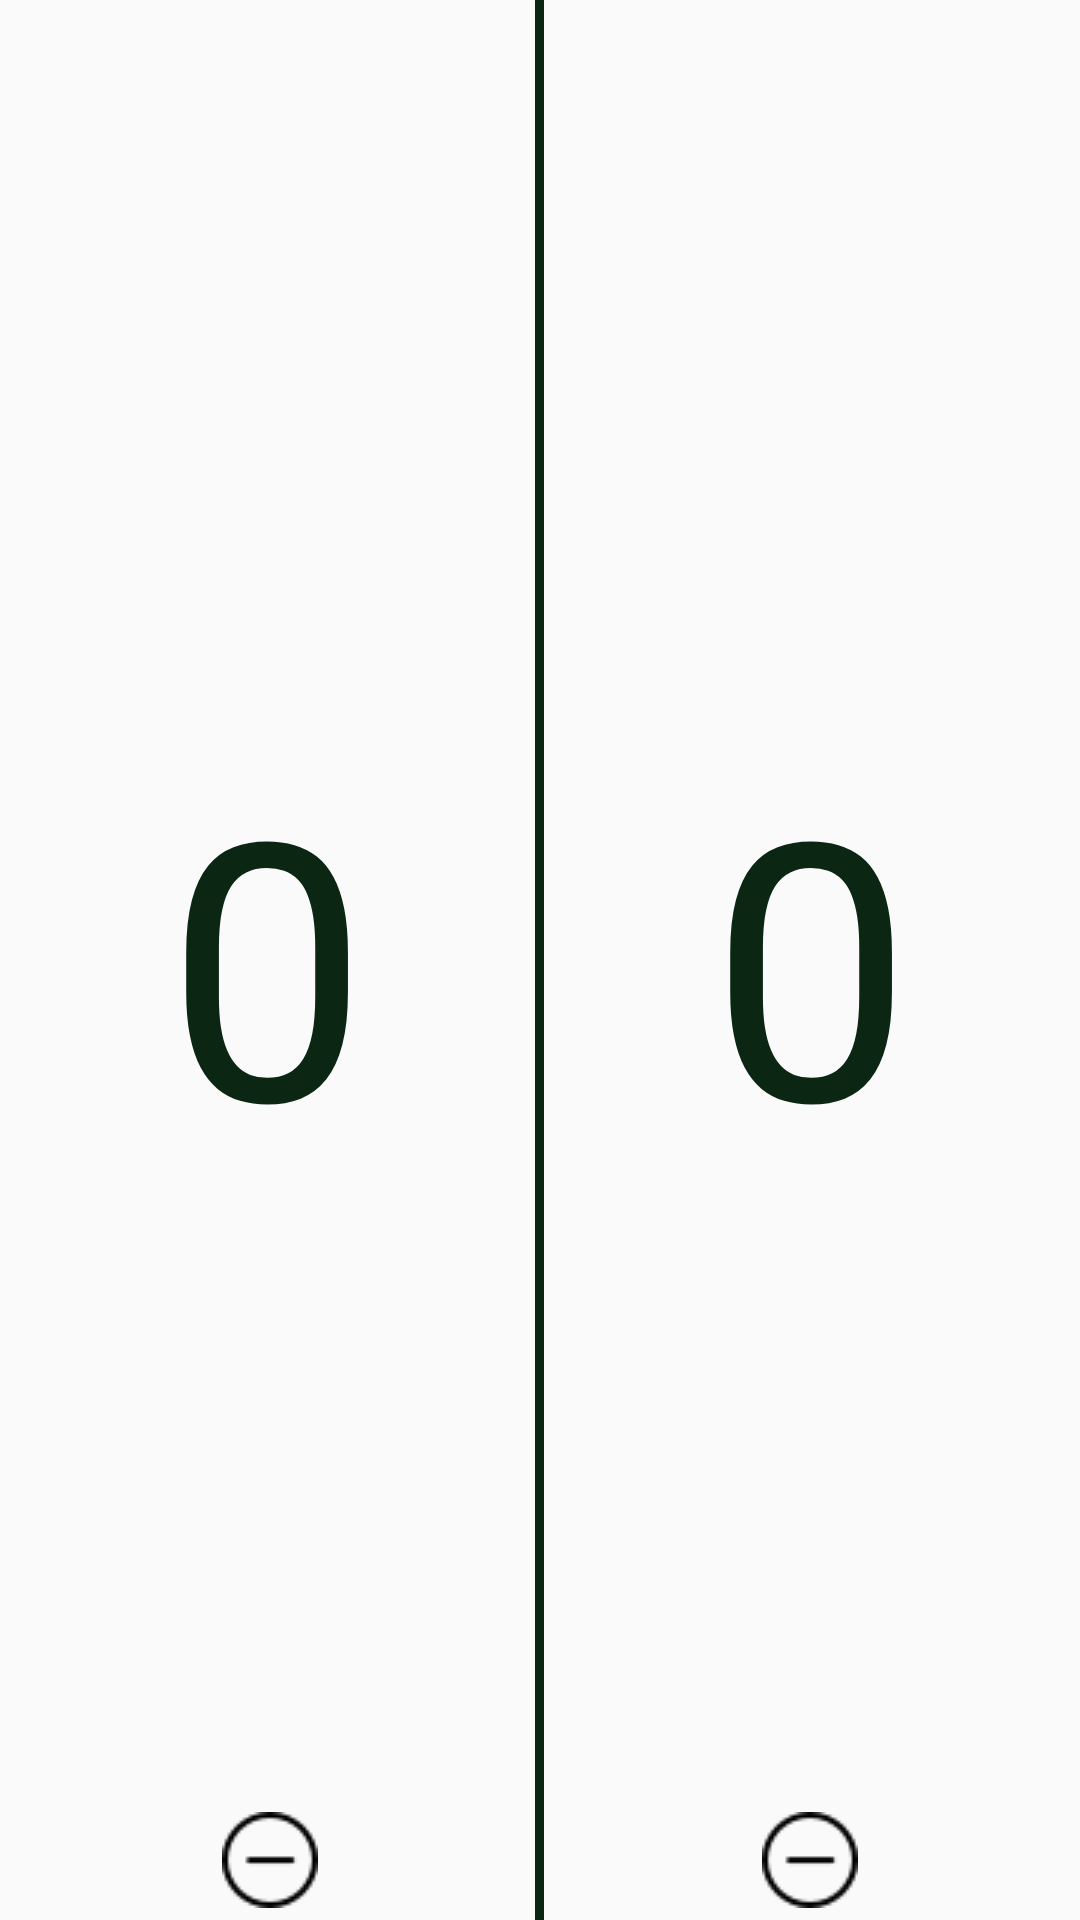

Screen size 1080w x 1920h. Icon name, then its center in pixels as [x,y]:
minus: [270,1860], [810,1860]
